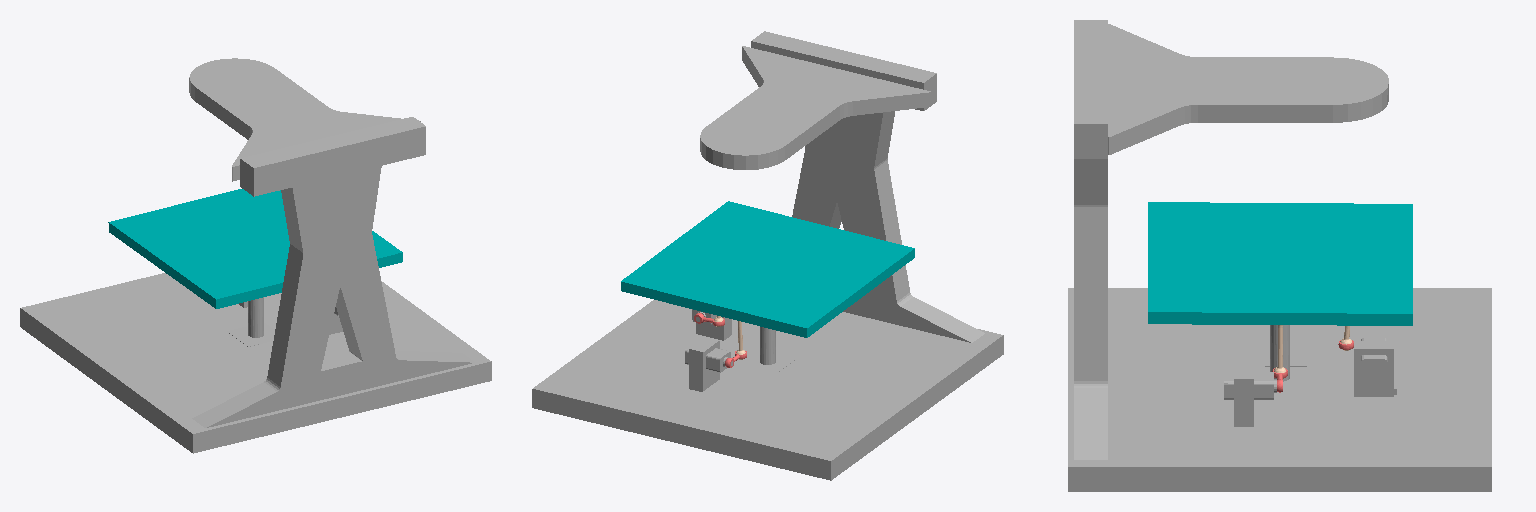
The robot description file, URDF, robot "urdf_pkd_10":
<?xml version="1.0" encoding="utf-8"?>
<!-- This URDF was automatically created by SolidWorks to URDF Exporter! Originally created by [author] ([email redacted]) 
     Commit Version: 1.6.0-4-g7f85cfe  Build Version: 1.6.7995.38578
     For more information, please see http://wiki.ros.org/sw_urdf_exporter -->
<robot 
  name="urdf_pkd_10">
  <link
    name="alt_tabla">
    <inertial>
      <origin
        xyz="0.000695368417866465 -0.0355009700192351 0.0659041333502034"
        rpy="0 0 0" />
      <mass
        value="3.11208089575935" />
      <inertia
        ixx="0.0227153677888127"
        ixy="-1.48499107751215E-08"
        ixz="4.06846309937201E-05"
        iyy="0.0251401539955464"
        iyz="5.60767327869641E-06"
        izz="0.0359557422747083" />
    </inertial>
    <visual>
      <origin
        xyz="0 0 0"
        rpy="0 0 0" />
      <geometry>
        <mesh
          filename="package://urdf_pkd_10/meshes/alt_tabla.STL" />
      </geometry>
      <material
        name="">
        <color
          rgba="0.752941176470588 0.752941176470588 0.752941176470588 1" />
      </material>
    </visual>
    <collision>
      <origin
        xyz="0 0 0"
        rpy="0 0 0" />
      <geometry>
        <mesh
          filename="package://urdf_pkd_10/meshes/alt_tabla.STL" />
      </geometry>
    </collision>
  </link>
  <link
    name="ara_bag">
    <inertial>
      <origin
        xyz="-8.09416009546204E-05 3.4282704042138E-05 0.00449950542085126"
        rpy="0 0 0" />
      <mass
        value="0.00153692735411914" />
      <inertia
        ixx="4.15440641306904E-08"
        ixy="-2.74681644252612E-19"
        ixz="-5.12630472156257E-17"
        iyy="4.15434022358236E-08"
        iyz="-1.14220481031945E-10"
        izz="2.65531223108225E-08" />
    </inertial>
    <visual>
      <origin
        xyz="0 0 0"
        rpy="0 0 0" />
      <geometry>
        <mesh
          filename="package://urdf_pkd_10/meshes/ara_bag.STL" />
      </geometry>
      <material
        name="">
        <color
          rgba="1 0.501960784313725 0.501960784313725 1" />
      </material>
    </visual>
    <collision>
      <origin
        xyz="0 0 0"
        rpy="0 0 0" />
      <geometry>
        <mesh
          filename="package://urdf_pkd_10/meshes/ara_bag.STL" />
      </geometry>
    </collision>
  </link>
  <joint
    name="ara_bag_j"
    type="continuous">
    <origin
      xyz="0.00033551 0.00017004 0.074577"
      rpy="0 0.00060948 0" />
    <parent
      link="alt_tabla" />
    <child
      link="ara_bag" />
    <axis
      xyz="-1 0 0" />
  </joint>
  <link
    name="ust_tabla">
    <inertial>
      <origin
        xyz="-0.000395821768254256 0.000177977913713032 0.0308592292910416"
        rpy="0 0 0" />
      <mass
        value="0.402035216083513" />
      <inertia
        ixx="0.00133459009089929"
        ixy="-8.52755745317482E-08"
        ixz="-1.2127361263079E-05"
        iyy="0.00133454432532333"
        iyz="9.94454066608539E-06"
        izz="0.00266152735579654" />
    </inertial>
    <visual>
      <origin
        xyz="0 0 0"
        rpy="0 0 0" />
      <geometry>
        <mesh
          filename="package://urdf_pkd_10/meshes/ust_tabla.STL" />
      </geometry>
      <material
        name="">
        <color
          rgba="0 0.752941176470588 0.752941176470588 1" />
      </material>
    </visual>
    <collision>
      <origin
        xyz="0 0 0"
        rpy="0 0 0" />
      <geometry>
        <mesh
          filename="package://urdf_pkd_10/meshes/ust_tabla.STL" />
      </geometry>
    </collision>
  </link>
  <joint
    name="ust_tabla_j"
    type="continuous">
    <origin
      xyz="-8.0951E-05 0 0.0089996"
      rpy="0 0 0" />
    <parent
      link="ara_bag" />
    <child
      link="ust_tabla" />
    <axis
      xyz="0 -1 0" />
  </joint>
  <link
    name="servo_kol1">
    <inertial>
      <origin
        xyz="0.00250003380222744 -0.00792621120987124 9.94954718783747E-05"
        rpy="0 0 0" />
      <mass
        value="0.000530413081760607" />
      <inertia
        ixx="4.79713454735475E-08"
        ixy="-2.34966156712269E-13"
        ixz="-7.31558730966973E-15"
        iyy="4.885865313891E-09"
        iyz="5.45561633423209E-10"
        izz="4.83651467471464E-08" />
    </inertial>
    <visual>
      <origin
        xyz="0 0 0"
        rpy="0 0 0" />
      <geometry>
        <mesh
          filename="package://urdf_pkd_10/meshes/servo_kol1.STL" />
      </geometry>
      <material
        name="">
        <color
          rgba="1 0.501960784313725 0.501960784313725 1" />
      </material>
    </visual>
    <collision>
      <origin
        xyz="0 0 0"
        rpy="0 0 0" />
      <geometry>
        <mesh
          filename="package://urdf_pkd_10/meshes/servo_kol1.STL" />
      </geometry>
    </collision>
  </link>
  <joint
    name="servo_kol1_j"
    type="continuous">
    <origin
      xyz="-0.0024915 0.07108 0.047488"
      rpy="0 0 0" />
    <parent
      link="alt_tabla" />
    <child
      link="servo_kol1" />
    <axis
      xyz="-1 0 -2.0913E-05" />
  </joint>
  <link
    name="ara_kol1">
    <inertial>
      <origin
        xyz="6.1596851267165E-05 0.00190017209900047 0.0348893377307952"
        rpy="0 0 0" />
      <mass
        value="0.00249619510290649" />
      <inertia
        ixx="1.16313053516493E-06"
        ixy="-1.08187190238303E-10"
        ixz="-1.98644081760239E-09"
        iyy="1.15979662680313E-06"
        iyz="-6.12787722466708E-08"
        izz="3.79855456536018E-08" />
    </inertial>
    <visual>
      <origin
        xyz="0 0 0"
        rpy="0 0 0" />
      <geometry>
        <mesh
          filename="package://urdf_pkd_10/meshes/ara_kol1.STL" />
      </geometry>
      <material
        name="">
        <color
          rgba="0.996078431372549 0.870588235294118 0.76078431372549 1" />
      </material>
    </visual>
    <collision>
      <origin
        xyz="0 0 0"
        rpy="0 0 0" />
      <geometry>
        <mesh
          filename="package://urdf_pkd_10/meshes/ara_kol1.STL" />
      </geometry>
    </collision>
  </link>
  <joint
    name="ara_kol1_j"
    type="continuous">
    <origin
      xyz="0.0025 -0.020998 0.00026349"
      rpy="0 0.00060948 0" />
    <parent
      link="servo_kol1" />
    <child
      link="ara_kol1" />
    <axis
      xyz="-1 0 0" />
  </joint>
  <link
    name="ara_top1">
    <inertial>
      <origin
        xyz="-7.49336538218015E-05 6.3345357742349E-05 0.00831394058052015"
        rpy="0 0 0" />
      <mass
        value="0.00166752417988901" />
      <inertia
        ixx="5.18245966459301E-08"
        ixy="-1.02732184084511E-12"
        ixz="-1.5019947583821E-10"
        iyy="6.50658263523624E-08"
        iyz="2.60813844904187E-11"
        izz="6.84886663946553E-08" />
    </inertial>
    <visual>
      <origin
        xyz="0 0 0"
        rpy="0 0 0" />
      <geometry>
        <mesh
          filename="package://urdf_pkd_10/meshes/ara_top1.STL" />
      </geometry>
      <material
        name="">
        <color
          rgba="0.792156862745098 0.819607843137255 0.933333333333333 1" />
      </material>
    </visual>
    <collision>
      <origin
        xyz="0 0 0"
        rpy="0 0 0" />
      <geometry>
        <mesh
          filename="package://urdf_pkd_10/meshes/ara_top1.STL" />
      </geometry>
    </collision>
  </link>
  <joint
    name="ara_top1_j"
    type="floating">
    <origin
      xyz="7.8641E-05 0.002783 0.052174"
      rpy="0 0 0" />
    <parent
      link="ara_kol1" />
    <child
      link="ara_top1" />
    <axis
      xyz="0 0 0" />
  </joint>
  <!-- <link
    name="top_bag1">
    <inertial>
      <origin
        xyz="-0.000117526938528623 -0.052617527127631 0.0018618182380859"
        rpy="0 0 0" />
      <mass
        value="0.402035216083513" />
      <inertia
        ixx="0.00133447928549816"
        ixy="5.62347033318639E-09"
        ixz="-1.6662407377262E-07"
        iyy="0.00133446982505349"
        iyz="-1.66625546397804E-07"
        izz="0.00266171266146751" />
    </inertial>
    <visual>
      <origin
        xyz="0 0 0"
        rpy="0 0 0" />
      <geometry>
        <mesh
          filename="package://urdf_pkd_10/meshes/top_bag1.STL" />
      </geometry>
      <material
        name="">
        <color
          rgba="0 0.752941176470588 0.752941176470588 1" />
      </material>
    </visual>
    <collision>
      <origin
        xyz="0 0 0"
        rpy="0 0 0" />
      <geometry>
        <mesh
          filename="package://urdf_pkd_10/meshes/top_bag1.STL" />
      </geometry>
    </collision>
  </link> -->
  <!-- <joint
    name="ust_tabla_j"
    type="fixed">
    <origin
      xyz="-0.0001104 9.3329E-05 0.012249"
      rpy="-0.0076194 -0.0090123 6.8668E-05" />
    <parent
      link="ara_top1" />
    <child
      link="ust_tabla" />
    <axis
      xyz="0 0 0" />
  </joint> -->
  <link
    name="servo_kol2">
    <inertial>
      <origin
        xyz="-0.00791584665380898 -0.00249883300914071 0.000424363716795495"
        rpy="0 0 0" />
      <mass
        value="0.000530413177353064" />
      <inertia
        ixx="4.99950950783473E-09"
        ixy="6.75715199094322E-12"
        ixz="2.28597533491095E-09"
        iyy="4.79713447640068E-08"
        iyz="7.91769796122887E-13"
        izz="4.82515035766695E-08" />
    </inertial>
    <visual>
      <origin
        xyz="0 0 0"
        rpy="0 0 0" />
      <geometry>
        <mesh
          filename="package://urdf_pkd_10/meshes/servo_kol2.STL" />
      </geometry>
      <material
        name="">
        <color
          rgba="1 0.501960784313725 0.501960784313725 1" />
      </material>
    </visual>
    <collision>
      <origin
        xyz="0 0 0"
        rpy="0 0 0" />
      <geometry>
        <mesh
          filename="package://urdf_pkd_10/meshes/servo_kol2.STL" />
      </geometry>
    </collision>
  </link>
  <joint
    name="servo_kol2_j"
    type="continuous">
    <origin
      xyz="0.073529 0.0025928 0.047392"
      rpy="0 0.00060948 0" />
    <parent
      link="alt_tabla" />
    <child
      link="servo_kol2" />
    <axis
      xyz="0 1 -0.0028584" />
  </joint>
  <link
    name="ara_kol2">
    <inertial>
      <origin
        xyz="2.60462330745614E-05 0.000181097603139869 0.0349406190657459"
        rpy="0 0 0" />
      <mass
        value="0.00249619510290649" />
      <inertia
        ixx="1.16313341514313E-06"
        ixy="-4.35995513257444E-12"
        ixz="-8.41201256511935E-10"
        iyy="1.16310372775323E-06"
        iyz="-5.84881238909139E-09"
        izz="3.46755647252905E-08" />
    </inertial>
    <visual>
      <origin
        xyz="0 0 0"
        rpy="0 0 0" />
      <geometry>
        <mesh
          filename="package://urdf_pkd_10/meshes/ara_kol2.STL" />
      </geometry>
      <material
        name="">
        <color
          rgba="0.996078431372549 0.870588235294118 0.76078431372549 1" />
      </material>
    </visual>
    <collision>
      <origin
        xyz="0 0 0"
        rpy="0 0 0" />
      <geometry>
        <mesh
          filename="package://urdf_pkd_10/meshes/ara_kol2.STL" />
      </geometry>
    </collision>
  </link>
  <joint
    name="ara_kol2_j"
    type="continuous">
    <origin
      xyz="-0.020971 -0.0024968 0.0011124"
      rpy="0 0 0" />
    <parent
      link="servo_kol2" />
    <child
      link="ara_kol2" />
    <axis
      xyz="0 -1 0" />
  </joint>
  <link
    name="ara_top2">
    <inertial>
      <origin
        xyz="-7.49336475598106E-05 6.33457535265079E-05 0.00831394058332685"
        rpy="0 0 0" />
      <mass
        value="0.00166752417515438" />
      <inertia
        ixx="6.50659057533879E-08"
        ixy="-3.52087911775746E-13"
        ixz="-3.08607609185432E-11"
        iyy="5.18242101949533E-08"
        iyz="1.26978751141287E-10"
        izz="6.84889730750205E-08" />
    </inertial>
    <visual>
      <origin
        xyz="0 0 0"
        rpy="0 0 0" />
      <geometry>
        <mesh
          filename="package://urdf_pkd_10/meshes/ara_top2.STL" />
      </geometry>
      <material
        name="">
        <color
          rgba="0.792156862745098 0.819607843137255 0.933333333333333 1" />
      </material>
    </visual>
    <collision>
      <origin
        xyz="0 0 0"
        rpy="0 0 0" />
      <geometry>
        <mesh
          filename="package://urdf_pkd_10/meshes/ara_top2.STL" />
      </geometry>
    </collision>
  </link>
  <joint
    name="ara_top2_j"
    type="floating">
    <origin
      xyz="2.6752E-05 0.00027385 0.052249"
      rpy="0 0 0" />
    <parent
      link="ara_kol2" />
    <child
      link="ara_top2" />
    <axis
      xyz="0 0 0" />
  </joint>
  <!-- <link
    name="top_bag2">
    <inertial>
      <origin
        xyz="-0.0526175269385287 -0.000117527127630981 0.00186181823808584"
        rpy="0 0 0" />
      <mass
        value="0.402035216083513" />
      <inertia
        ixx="0.00133447928549816"
        ixy="5.62347033318639E-09"
        ixz="-1.6662407377262E-07"
        iyy="0.00133446982505349"
        iyz="-1.66625546397803E-07"
        izz="0.00266171266146751" />
    </inertial>
    <visual>
      <origin
        xyz="0 0 0"
        rpy="0 0 0" />
      <geometry>
        <mesh
          filename="package://urdf_pkd_10/meshes/top_bag2.STL" />
      </geometry>
      <material
        name="">
        <color
          rgba="0 0.752941176470588 0.752941176470588 1" />
      </material>
    </visual>
    <collision>
      <origin
        xyz="0 0 0"
        rpy="0 0 0" />
      <geometry>
        <mesh
          filename="package://urdf_pkd_10/meshes/top_bag2.STL" />
      </geometry>
    </collision>
  </link> -->
  <!-- <joint
    name="ust_tabla_j"
    type="fixed">
    <origin
      xyz="-0.0001104 9.3329E-05 0.012249"
      rpy="-0.0076194 -0.0090123 6.8668E-05" />
    <parent
      link="ara_top2" />
    <child
      link="ust_bag" />
    <axis
      xyz="0 0 0" />
  </joint> -->
  <link
    name="kamera_ek">
    <inertial>
      <origin
        xyz="2.53639462169386E-06 -8.67361737988404E-19 0.00416161117522396"
        rpy="0 0 0" />
      <mass
        value="0.00534719436606297" />
      <inertia
        ixx="2.85851324719255E-07"
        ixy="1.12478041050372E-24"
        ixz="1.28941396305223E-10"
        iyy="2.85851246132801E-07"
        iyz="2.92370784136632E-24"
        izz="4.97412945258465E-07" />
    </inertial>
    <visual>
      <origin
        xyz="0 0 0"
        rpy="0 0 0" />
      <geometry>
        <mesh
          filename="package://urdf_pkd_10/meshes/kamera_ek.STL" />
      </geometry>
      <material
        name="">
        <color
          rgba="0.792156862745098 0.819607843137255 0.933333333333333 1" />
      </material>
    </visual>
    <collision>
      <origin
        xyz="0 0 0"
        rpy="0 0 0" />
      <geometry>
        <mesh
          filename="package://urdf_pkd_10/meshes/kamera_ek.STL" />
      </geometry>
    </collision>
  </link>
  <joint
    name="kamera_ek_j"
    type="fixed">
    <origin
      xyz="0.0011275 0.00071058 0.25012"
      rpy="-3.1387 0 -3.1416" />
    <parent
      link="alt_tabla" />
    <child
      link="kamera_ek" />
    <axis
      xyz="0 0 0" />
  </joint>

  <!-- <joint name="camera_optical_joint" type="fixed">
        <parent link="kamera_ek"/>
        <child link="camera_link_optical"/>
        <origin xyz="0 0 0" rpy="${-pi/2} 0 ${-pi/2}"/>
  </joint>

  <link name="camera_link_optical"></link> -->

  <!-- <gazebo reference="camera_link">
        <material>Gazebo/Black</material>

        <sensor name="camera" type="camera">
            <pose> 0 0 0 0 0 0 </pose>
            <visualize>true</visualize>
            <update_rate>10</update_rate>
            <camera>
                <horizontal_fov>1.089</horizontal_fov>
                <image>
                    <format>R8G8B8</format>
                    <width>640</width>
                    <height>480</height>
                </image>
                <clip>
                    <near>0.05</near>
                    <far>8.0</far>
                </clip>
            </camera>
            <plugin name="camera_controller" filename="libgazebo_ros_camera.so">
                <frame_name>camera_link_optical</frame_name>
            </plugin>
        </sensor>
  <gazebo>
  <gazebo>
    <plugin name="gazebo_ros_control" filename="libgazebo_ros_control.so">
    <robotNamespace>urdf_pkd_10</robotNamespace>
    </plugin>
  </gazebo> -->
</robot>

--- Render facts (derived) ---
The picture shows the robot from 3 angles, left to right: view 1: azimuth 30°, elevation 25°; view 2: azimuth 150°, elevation 25°; view 3: azimuth 270°, elevation 25°; orthographic projection.
Model urdf_pkd_10 with 10 links and 9 joints (6 continuous, 1 fixed, 2 floating), rooted at alt_tabla, posed every joint at zero.
Visible links, largest first — view 1: alt_tabla, ust_tabla; view 2: alt_tabla, ust_tabla; view 3: alt_tabla, ust_tabla.
Boxes of the visible links, box(x1,y1,x2,y2) form: alt_tabla: box(20, 58, 491, 453); ust_tabla: box(108, 189, 402, 308); alt_tabla: box(532, 31, 1003, 480); ust_tabla: box(621, 201, 914, 337); alt_tabla: box(1068, 20, 1491, 491); ust_tabla: box(1148, 202, 1412, 325).
Bounding box of the posed robot: 0.32 × 0.32 × 0.2745 m (x, y, z).
10 mesh visuals loaded from 10 distinct referenced files (10 binary STL).
